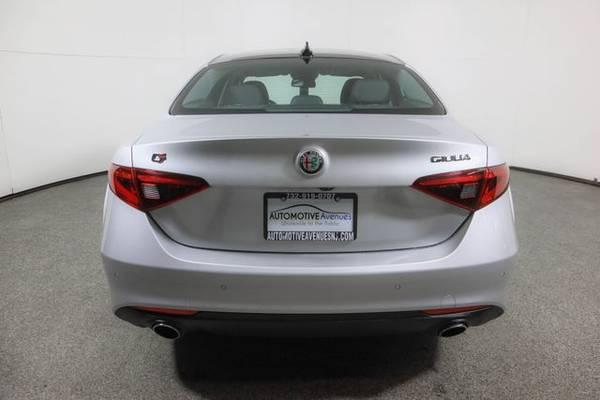Left_Taillight: (102, 162, 208, 213)
Rear_Bumper: (103, 185, 518, 326)
Rear_Windshield: (165, 54, 445, 115)
Right_Taillight: (414, 159, 509, 212)
Tailgate: (118, 110, 503, 254)
